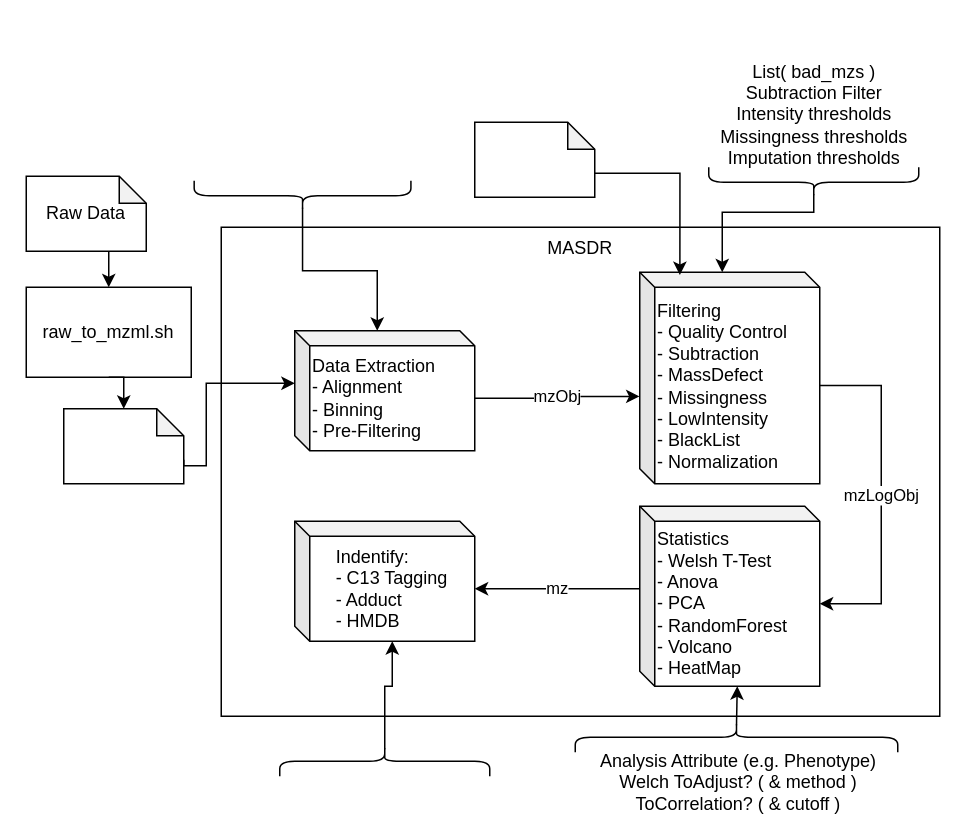
The diagram is 978 pixels wide and 840 high, and some of its shapes have lost their labels. Here are the shapes that lost their labels. From the top down, the centre of each, then its label:
At pixel 534 159: "Meta Data".
At pixel 302 195: "Binning Math Intensity thresholds Missingness thresholds".
At pixel 123 445: "files.mzml".
At pixel 384 760: "Adduct(s)".
